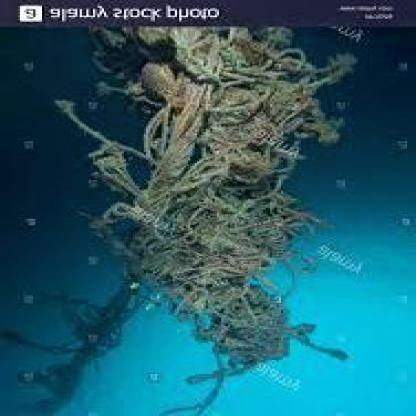net: (71, 26, 327, 372)
